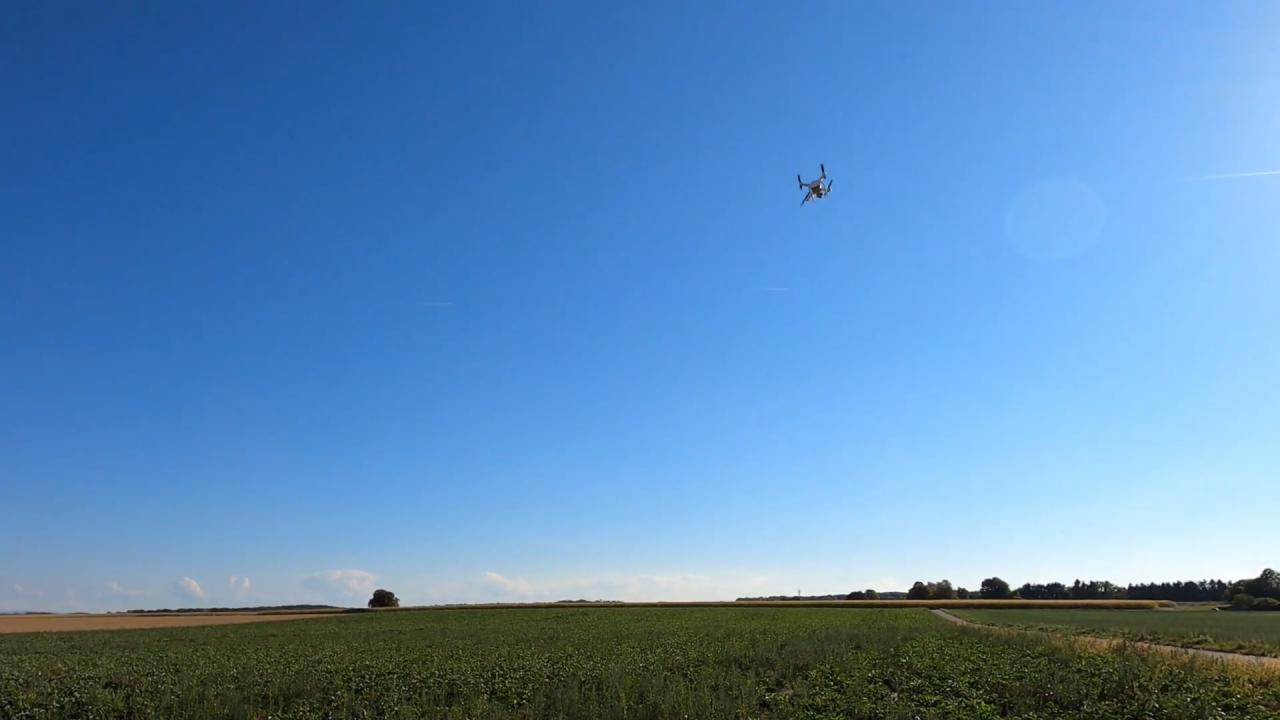Drone: (790, 159, 839, 212)
